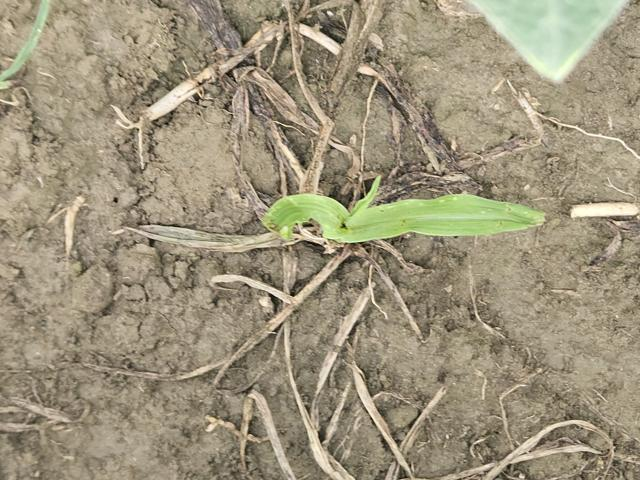bad weed: (245, 182, 565, 245)
